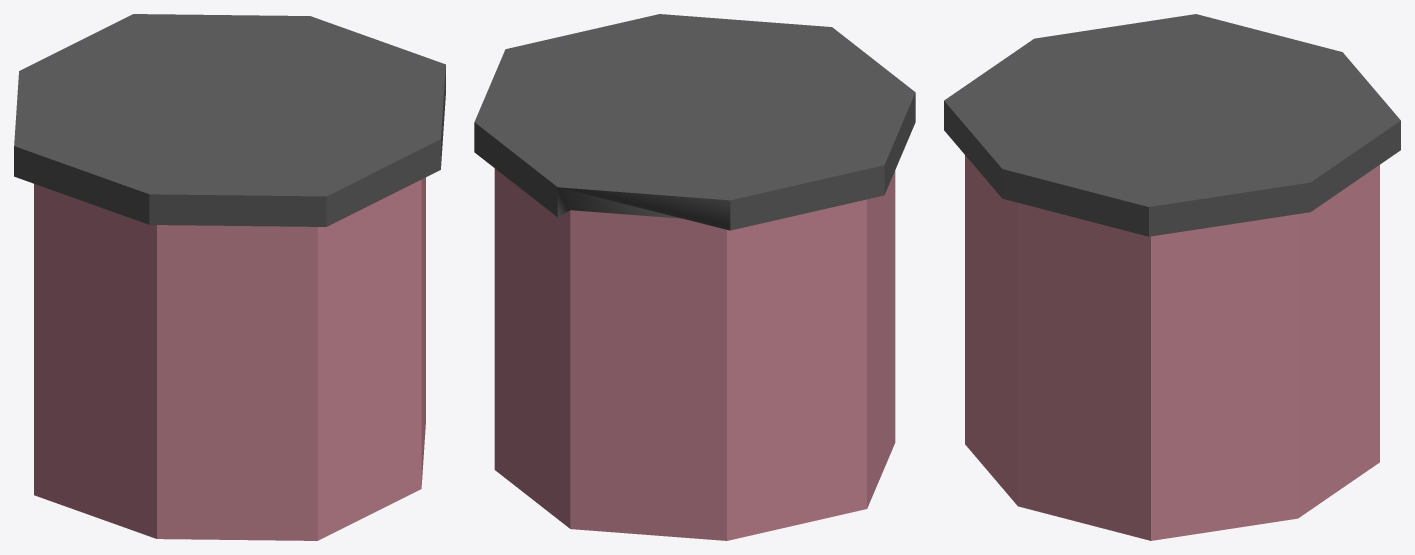
File: Jar_11.fbx
The picture shows the model from 3 angles, left to right: view 1: azimuth 30°, elevation 25°; view 2: azimuth 150°, elevation 25°; view 3: azimuth 270°, elevation 25°; orthographic projection. The views are drawn at different scales.
Visible parts, largest first — view 1: Jar_11; view 2: Jar_11; view 3: Jar_11.
Part boxes in pixels (x1=…): Jar_11: x1=14, y1=14, x2=445, y2=540; Jar_11: x1=474, y1=14, x2=915, y2=540; Jar_11: x1=944, y1=14, x2=1400, y2=540.
Size of the model in its own units: 29.11 by 29.11 by 24.09.
